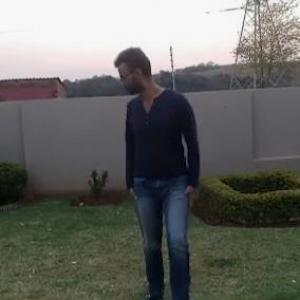follow: (117, 37, 204, 292)
